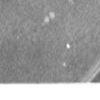white: (38, 14, 52, 26), (46, 10, 58, 21), (59, 60, 69, 70), (64, 41, 72, 51), (14, 33, 20, 41), (18, 32, 24, 38), (66, 0, 75, 4)
